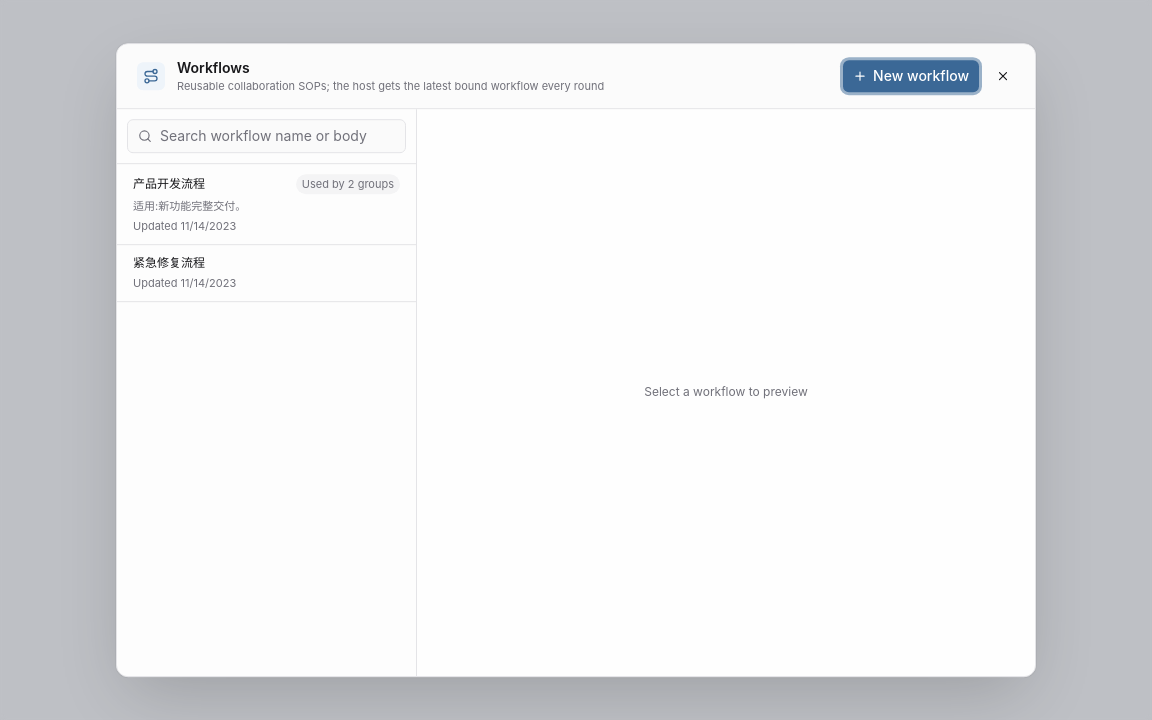
WorkflowManagerDialog · 内联删除 › 删除失败:保留选中(不跳空态),列表区显示错误
Expected: the text "产品开发流程" is shown, [133,176,205,191]
Click the button with test id "workflow-row-1". click: {"x": 169, "y": 184}
box: [117,164,416,245]
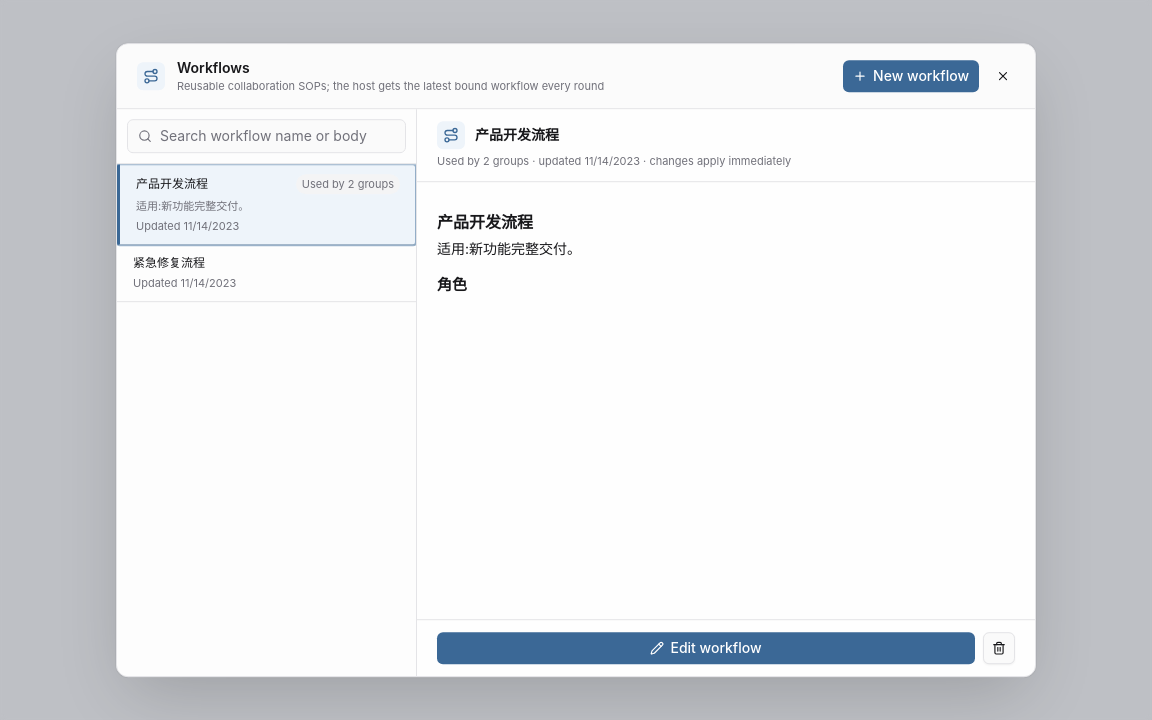
Click the button with test id "workflow-delete-button". click: {"x": 999, "y": 648}
box: [983,632,1015,664]
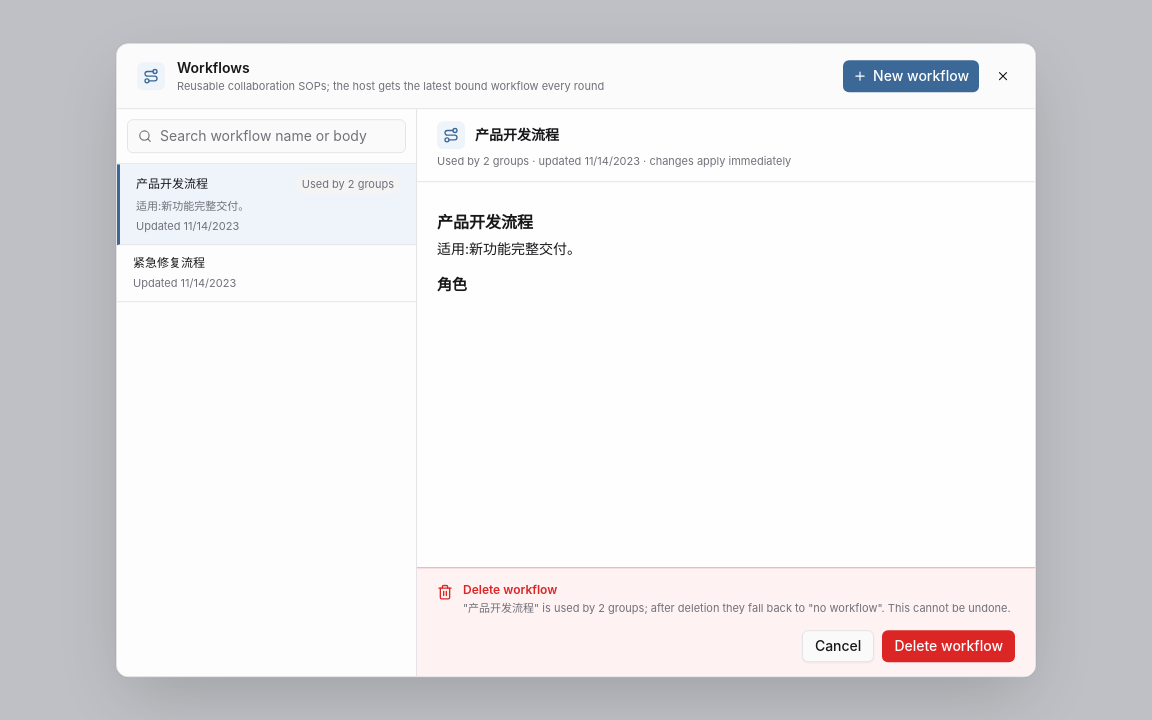
Click the button with test id "workflow-delete-confirm-button". click: {"x": 949, "y": 646}
box: [882,630,1015,662]
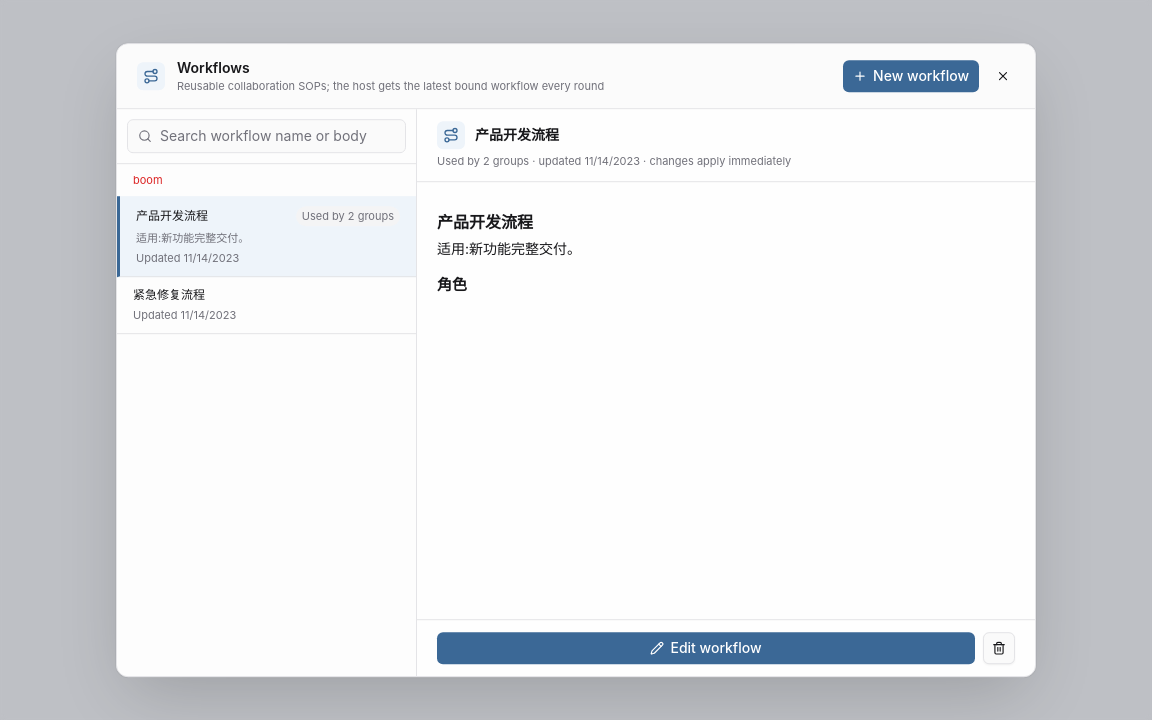
Expected: the text "Select a workflow to preview" is not shown
Expected: the 1st heading "产品开发流程" is shown, [475,125,559,145]
Expected: the text "boom" is shown, [133,173,163,187]
